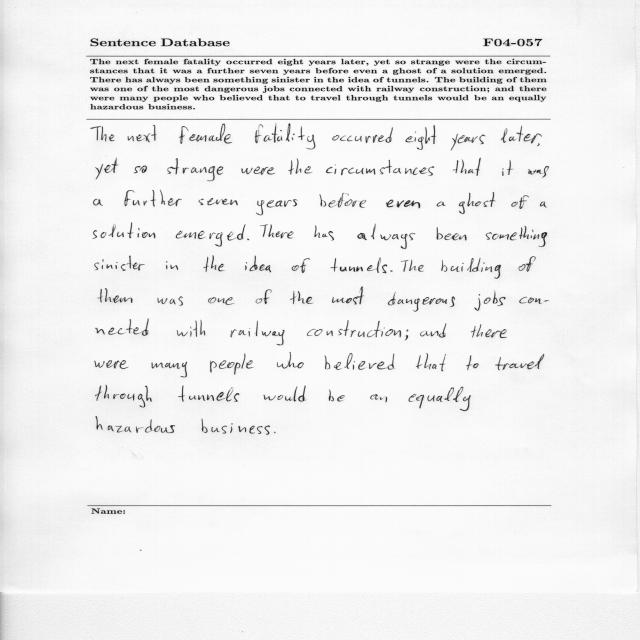word: (326, 160, 434, 176), (307, 321, 401, 338), (176, 224, 245, 247), (255, 124, 315, 150), (408, 387, 471, 411), (357, 224, 415, 249), (231, 321, 285, 346), (96, 417, 175, 434), (388, 292, 455, 312), (95, 385, 152, 408), (168, 158, 224, 181), (486, 226, 547, 247), (441, 258, 501, 279), (325, 353, 395, 370), (179, 123, 232, 144), (202, 419, 270, 435), (93, 222, 155, 239), (178, 385, 239, 402), (124, 190, 182, 207), (332, 127, 393, 143), (210, 353, 253, 375), (331, 258, 388, 274), (96, 319, 149, 336), (95, 255, 145, 271), (459, 192, 495, 214), (495, 354, 544, 370), (406, 125, 437, 150), (501, 126, 542, 144), (256, 199, 298, 216), (320, 193, 367, 208), (264, 386, 307, 402), (475, 291, 506, 311), (451, 134, 485, 151), (332, 287, 364, 305), (152, 362, 187, 378), (416, 353, 446, 371), (98, 288, 133, 303), (260, 224, 294, 239), (453, 158, 481, 176), (471, 324, 507, 338), (128, 125, 157, 142), (96, 159, 119, 180), (177, 320, 205, 337), (277, 352, 304, 369), (245, 256, 271, 272), (288, 159, 313, 175), (437, 227, 467, 240), (420, 323, 446, 338), (91, 126, 115, 142), (203, 255, 225, 272), (290, 291, 314, 304), (242, 166, 276, 175), (386, 200, 420, 209), (95, 360, 129, 369), (518, 256, 536, 272), (315, 226, 334, 241), (401, 260, 424, 272), (199, 198, 238, 205), (292, 258, 310, 273), (511, 195, 529, 209), (256, 290, 272, 305), (528, 166, 549, 177), (158, 297, 183, 306), (208, 297, 235, 305), (519, 297, 549, 304), (466, 356, 479, 371), (502, 160, 514, 176), (329, 390, 345, 402), (370, 395, 387, 403), (166, 261, 178, 270), (134, 166, 147, 174), (93, 199, 103, 206), (437, 202, 446, 207), (405, 330, 409, 341), (540, 201, 546, 208), (537, 143, 540, 146), (390, 270, 393, 272), (248, 238, 250, 240), (274, 432, 276, 433)
